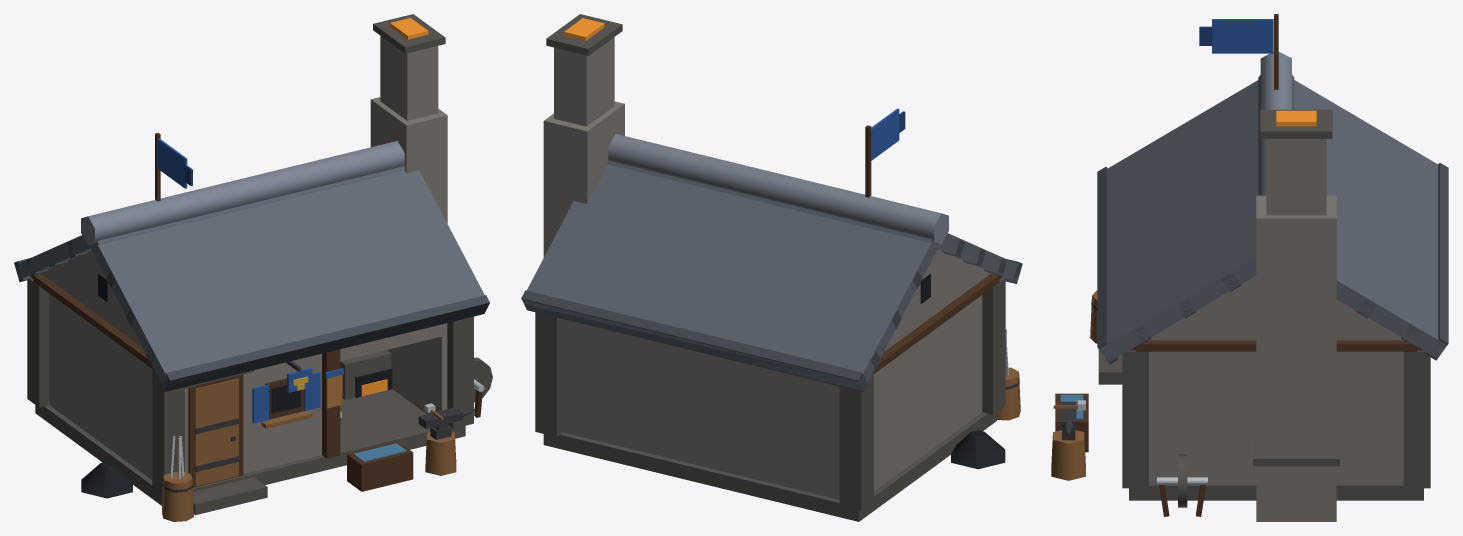
File: smithy.glb
3 views of the same model, side by side, from view 1: azimuth 30°, elevation 25°; view 2: azimuth 150°, elevation 25°; view 3: azimuth 270°, elevation 25° (orthographic). The views are drawn at different scales.
Parts seen in each view (by area): view 1: smithy; view 2: smithy; view 3: smithy.
Part boxes in pixels (bbox=[...]): smithy: bbox=[14, 14, 492, 521]; smithy: bbox=[521, 14, 1022, 521]; smithy: bbox=[1051, 14, 1448, 521].
Bounding box in the file's own units: 7.65 × 6.49 × 5.93.
Materials: 1 (1 with a texture image).
